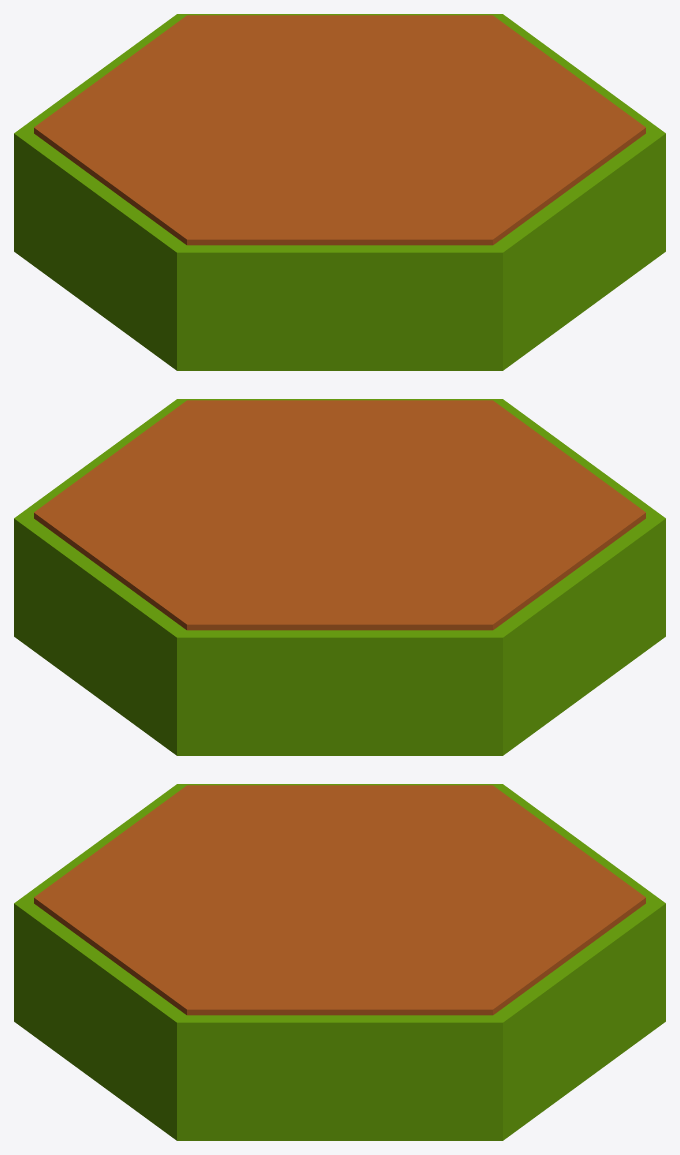
Rendered from TileHex_04.fbx.
3 renders of one model, top to bottom at view 1: azimuth 30°, elevation 25°; view 2: azimuth 150°, elevation 25°; view 3: azimuth 270°, elevation 25°, orthographic.
Parts seen in each view (by area): view 1: TileHex_04; view 2: TileHex_04; view 3: TileHex_04.
Part boxes in pixels (x1,y1,x2,y2): TileHex_04: (14,14,665,370); TileHex_04: (14,399,665,755); TileHex_04: (14,784,665,1140).
Size of the model in its own units: 433 by 105 by 500.
